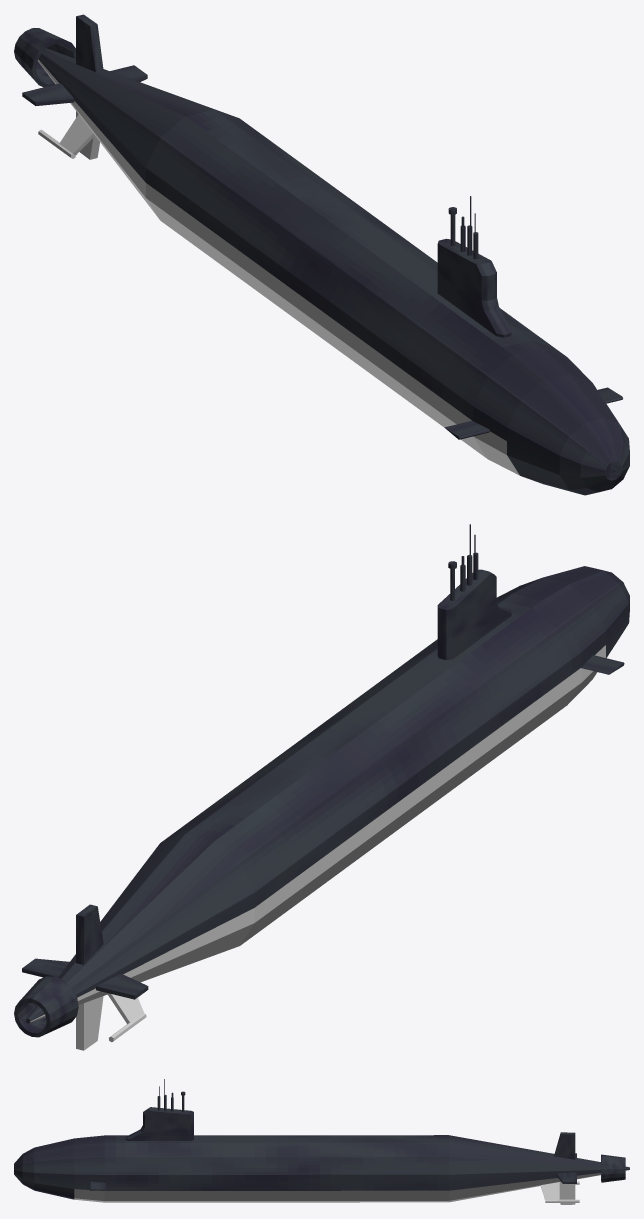
Rendered from submarine 1.fbx.
The picture shows the model from 3 angles, top to bottom: view 1: azimuth 30°, elevation 25°; view 2: azimuth 150°, elevation 25°; view 3: azimuth 270°, elevation 25°; orthographic projection. The views are drawn at different scales.
Parts seen in each view (by area): view 1: Body2, TopBit, TailRing, FinsV, FinsH, FinsDRight, FrontFins; view 2: Body2, TopBit, TailRing, FinsV, FinsH, FinsDRight; view 3: Body2, TopBit, FinsV, TailRing, FinsDLeft, FinsH.
Part boxes in pixels (<box>): Body2: <box>37,48,629,495</box>; TopBit: <box>437,238,511,337</box>; TailRing: <box>14,28,75,87</box>; FinsV: <box>76,14,103,159</box>; FinsH: <box>22,65,147,105</box>; FinsDRight: <box>38,114,94,158</box>; FrontFins: <box>444,387,623,439</box>; Body2: <box>26,566,629,1023</box>; TopBit: <box>437,569,511,660</box>; TailRing: <box>14,976,78,1037</box>; FinsV: <box>76,904,103,1050</box>; FinsH: <box>22,958,148,999</box>; FinsDRight: <box>107,993,146,1042</box>; Body2: <box>14,1135,629,1202</box>; TopBit: <box>125,1107,193,1140</box>; FinsV: <box>554,1132,575,1204</box>; TailRing: <box>601,1154,625,1182</box>; FinsDLeft: <box>540,1182,579,1202</box>; FinsH: <box>556,1153,576,1183</box>.
Bounding box in the file's own units: 292 × 404 × 1804.
